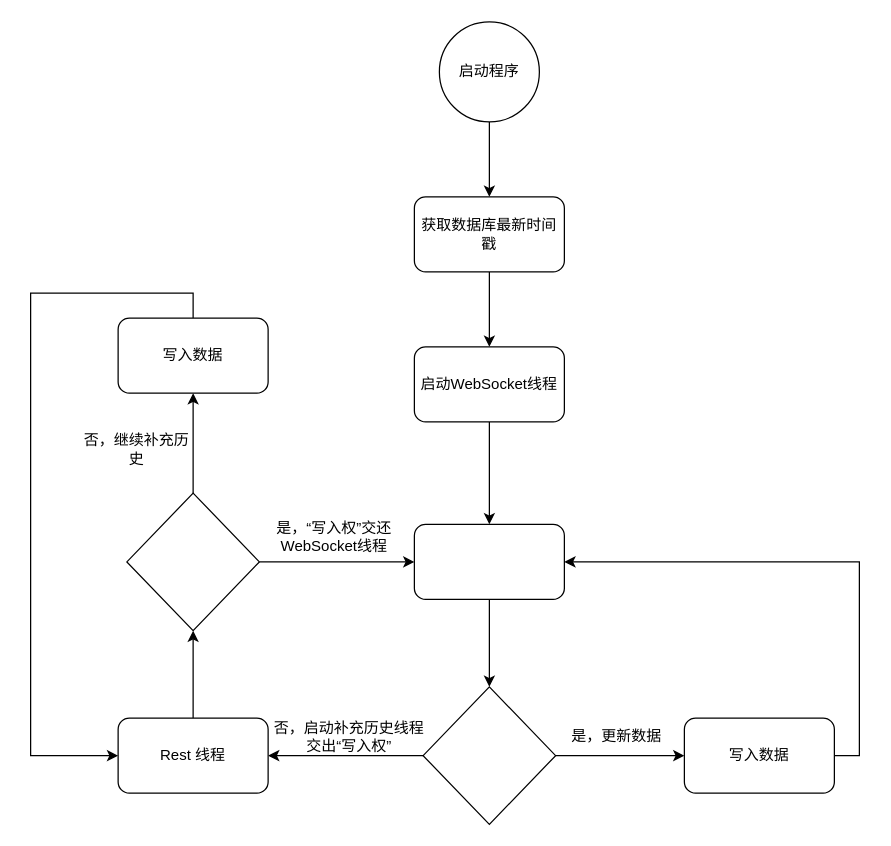
This 891x846 diagram has some shape labels left out. The shapes that lost their labels are listed below. From the top down, each one's box as (x1, y1, x2, y2) in pixels, then its label:
(126, 492, 259, 631): 时间戳 是否等于WebSocket 最新纪录
(413, 523, 564, 599): 读取Stream数据
(422, 686, 556, 824): 时间戳是否递增
